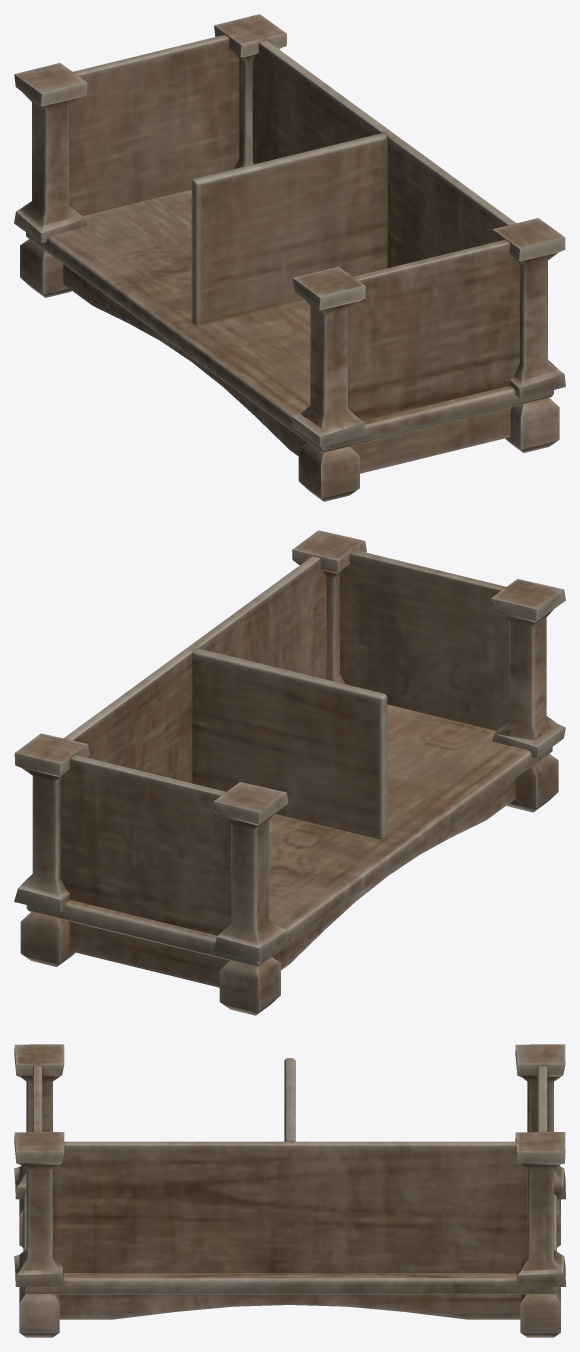
The model's file is SM_cabinet_base_01.fbx.
3 views of the same model, one above another, from view 1: azimuth 30°, elevation 25°; view 2: azimuth 150°, elevation 25°; view 3: azimuth 270°, elevation 25° (orthographic). The views are drawn at different scales.
Visible parts, largest first — view 1: SM_cabinet_base_01_LOD0; view 2: SM_cabinet_base_01_LOD0; view 3: SM_cabinet_base_01_LOD0.
Part boxes in pixels (box(x1,y1,x2,y2)): SM_cabinet_base_01_LOD0: box(14, 14, 565, 501); SM_cabinet_base_01_LOD0: box(14, 530, 565, 1015); SM_cabinet_base_01_LOD0: box(14, 1044, 565, 1337).
Bounding box in the file's own units: 69.53 × 149 × 56.51.
Materials: 1 (1 with a texture image).
